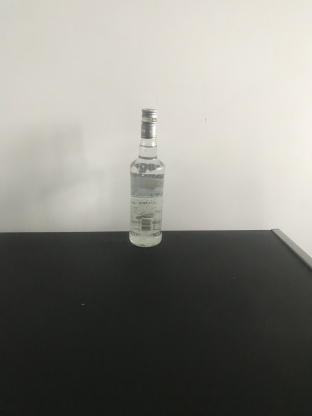nakretka: (139, 106, 158, 138)
